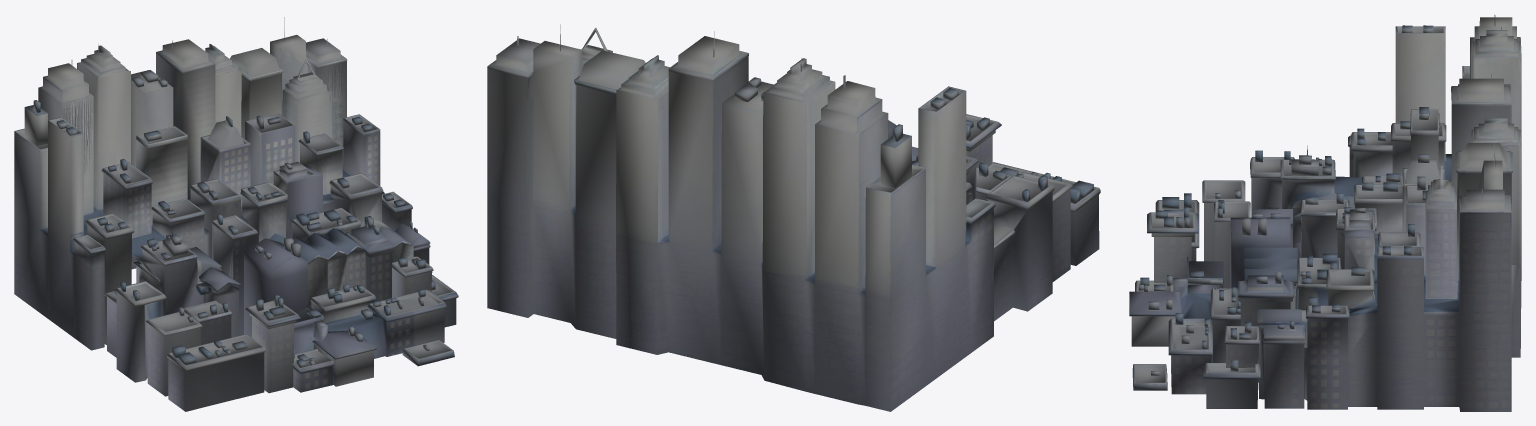
File: selected.glb
3 views of the same model, side by side, from view 1: azimuth 30°, elevation 25°; view 2: azimuth 150°, elevation 25°; view 3: azimuth 270°, elevation 25° (orthographic). The views are drawn at different scales.
Visible parts, largest first — view 1: tripo_node_3117a701-2646-4903-8716-01a011835341; view 2: tripo_node_3117a701-2646-4903-8716-01a011835341; view 3: tripo_node_3117a701-2646-4903-8716-01a011835341.
Boxes of the visible parts, x1,y1,x2,y2 form: tripo_node_3117a701-2646-4903-8716-01a011835341: (14,17,458,411); tripo_node_3117a701-2646-4903-8716-01a011835341: (487,24,1100,411); tripo_node_3117a701-2646-4903-8716-01a011835341: (1129,14,1521,411).
Size of the model in its own units: 0.998 by 0.752 by 0.998.
Materials: 1 (1 with a texture image).
